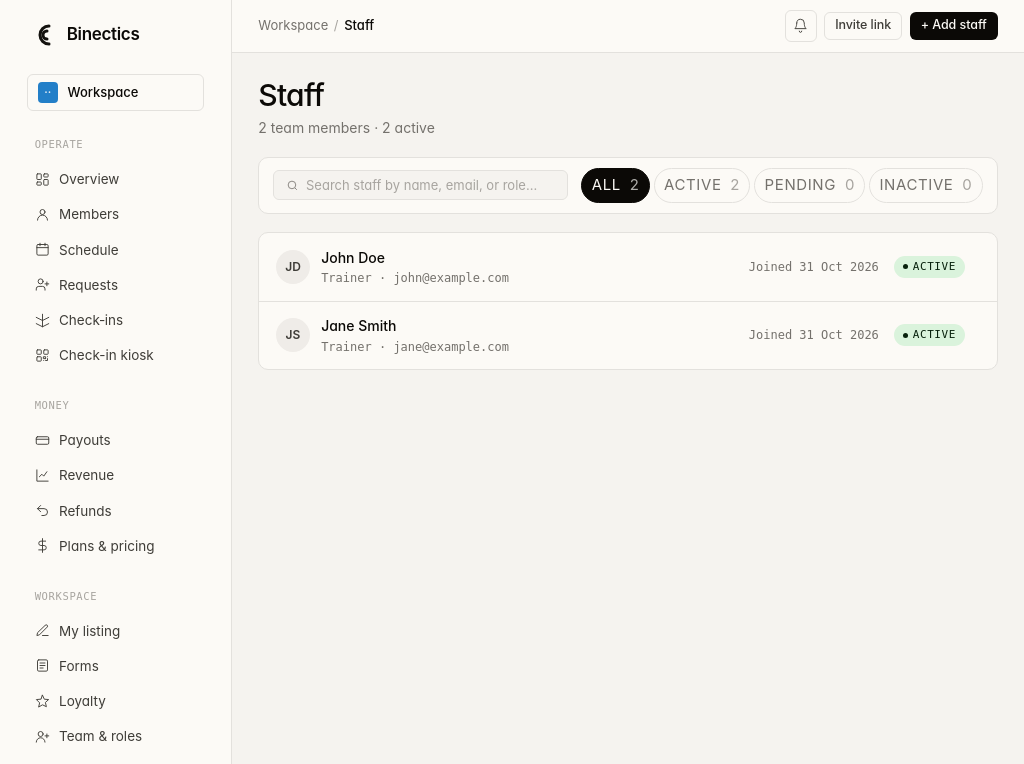
Scenario: Staff List Page › searches members by name
Expected: the link "John Doe" is shown, x1=321 y1=248 x2=385 y2=266
Type "jane" into the field labelled "Search staff".
click(431, 185); type("jane")  # box x1=306 y1=176 x2=556 y2=195
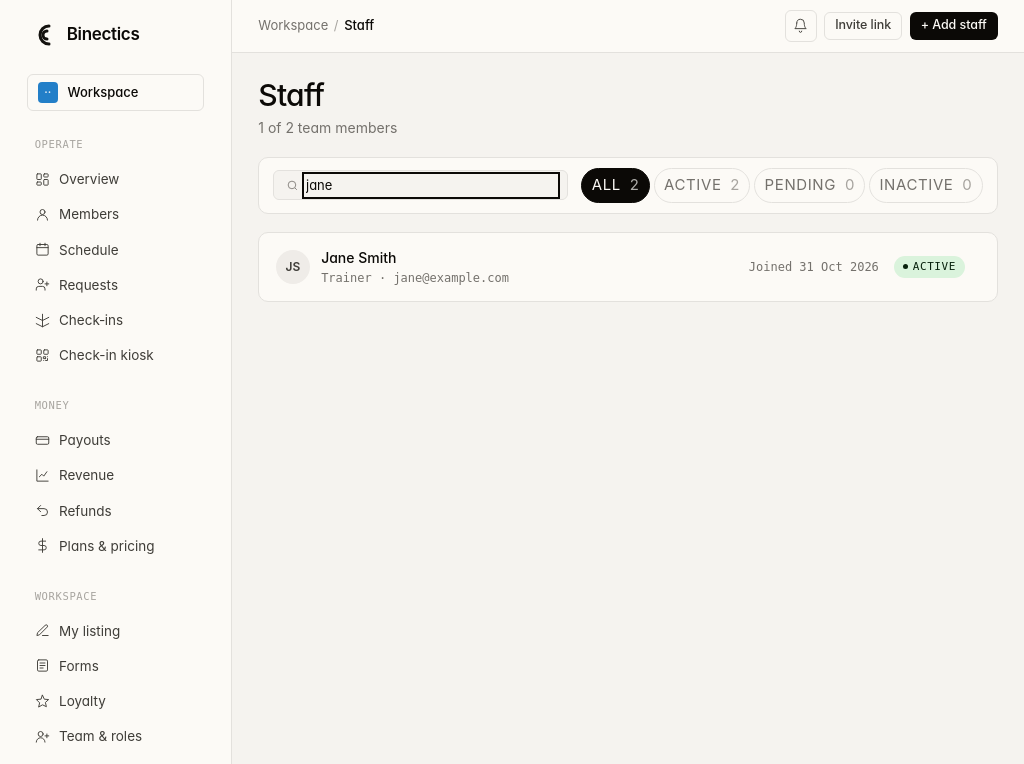
Expected: the link "Jane Smith" is shown, x1=321 y1=248 x2=396 y2=266
Expected: no links "John Doe" are shown
